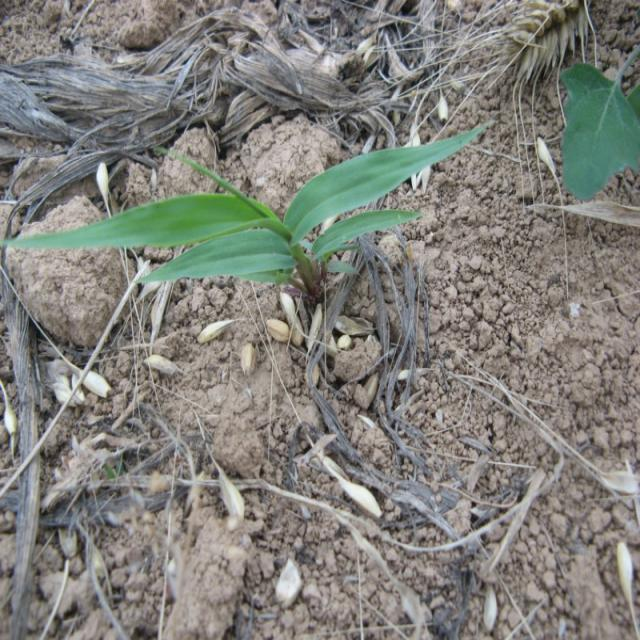bg: (1, 121, 492, 312)
